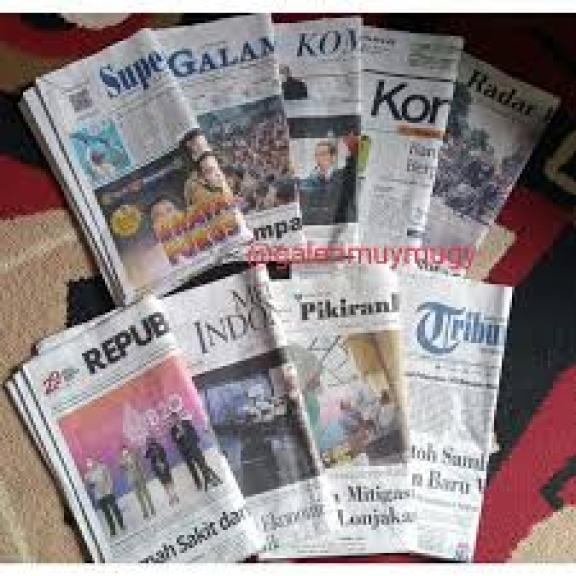Kertas: (7, 291, 274, 576), (5, 27, 260, 311), (371, 263, 530, 568), (164, 12, 297, 256)
